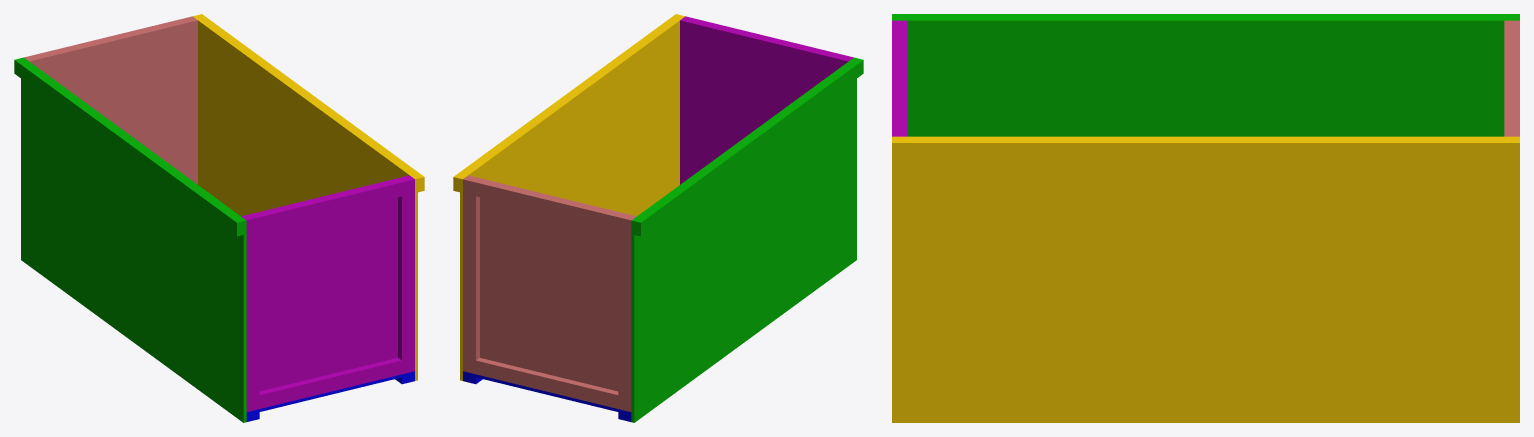
The model's file is result.glb.
The picture shows the model from 3 angles, left to right: view 1: azimuth 30°, elevation 25°; view 2: azimuth 150°, elevation 25°; view 3: azimuth 270°, elevation 25°; orthographic projection. The views are drawn at different scales.
Parts seen in each view (by area): view 1: ffd8f1ba-95f9-40e2-863b-4f8d39695126__Box_6, 1dc6f06f-2003-4e93-b297-3b47d28b7b78__Box_3, a1594c29-c6b6-4cc2-9e10-d6711a45d258__undefined, 184c246a-0ea2-43fc-9df2-b5346e2c0d37__undefined, 8add05cb-baac-4a33-83aa-6e7272d1a091__Box_7, 3d3d16c5-c152-4096-b800-93ba66e6ace6__undefined, c242dd87-e5cf-4665-981c-78031151446c__Box_4, b4f89f15-6231-436d-9cdd-82f44429a34a__undefined, 2ccd1f7b-b496-4abb-89f8-504bab3716ae__Box_5, 94bc22f0-6039-43f0-8656-74e47c284c6c__undefined, 8cef4bb0-bbf4-409b-bee3-64d4fb584d64__Box, 884591b5-4609-489f-bb55-23424e2c9bf1__undefined; view 2: ffd8f1ba-95f9-40e2-863b-4f8d39695126__Box_6, 184c246a-0ea2-43fc-9df2-b5346e2c0d37__undefined, a1594c29-c6b6-4cc2-9e10-d6711a45d258__undefined, 1dc6f06f-2003-4e93-b297-3b47d28b7b78__Box_3, 8add05cb-baac-4a33-83aa-6e7272d1a091__Box_7, 3a3f1b48-cc06-473e-b5e9-6c81eab77da1__undefined, 4b228db2-03e9-436d-a80f-9ad9bb5b9014__undefined, 884591b5-4609-489f-bb55-23424e2c9bf1__undefined, 962680cf-2a35-46e4-aedf-0724c928b743__undefined, 94bc22f0-6039-43f0-8656-74e47c284c6c__undefined, 8cef4bb0-bbf4-409b-bee3-64d4fb584d64__Box, b4f89f15-6231-436d-9cdd-82f44429a34a__undefined; view 3: a1594c29-c6b6-4cc2-9e10-d6711a45d258__undefined, ffd8f1ba-95f9-40e2-863b-4f8d39695126__Box_6, 94bc22f0-6039-43f0-8656-74e47c284c6c__undefined, 8add05cb-baac-4a33-83aa-6e7272d1a091__Box_7, b4f89f15-6231-436d-9cdd-82f44429a34a__undefined, 884591b5-4609-489f-bb55-23424e2c9bf1__undefined, 1dc6f06f-2003-4e93-b297-3b47d28b7b78__Box_3, 184c246a-0ea2-43fc-9df2-b5346e2c0d37__undefined.
Part boxes in pixels (x1,y1,x2,y2): ffd8f1ba-95f9-40e2-863b-4f8d39695126__Box_6: [21, 57, 246, 422]; 1dc6f06f-2003-4e93-b297-3b47d28b7b78__Box_3: [241, 175, 410, 391]; a1594c29-c6b6-4cc2-9e10-d6711a45d258__undefined: [193, 15, 417, 380]; 184c246a-0ea2-43fc-9df2-b5346e2c0d37__undefined: [28, 19, 197, 184]; 8add05cb-baac-4a33-83aa-6e7272d1a091__Box_7: [14, 58, 243, 236]; 3d3d16c5-c152-4096-b800-93ba66e6ace6__undefined: [398, 176, 414, 374]; c242dd87-e5cf-4665-981c-78031151446c__Box_4: [243, 214, 259, 411]; b4f89f15-6231-436d-9cdd-82f44429a34a__undefined: [256, 180, 401, 230]; 2ccd1f7b-b496-4abb-89f8-504bab3716ae__Box_5: [259, 358, 401, 408]; 94bc22f0-6039-43f0-8656-74e47c284c6c__undefined: [196, 14, 424, 192]; 8cef4bb0-bbf4-409b-bee3-64d4fb584d64__Box: [246, 371, 414, 414]; 884591b5-4609-489f-bb55-23424e2c9bf1__undefined: [37, 19, 182, 56]; ffd8f1ba-95f9-40e2-863b-4f8d39695126__Box_6: [631, 57, 856, 422]; 184c246a-0ea2-43fc-9df2-b5346e2c0d37__undefined: [467, 175, 636, 391]; a1594c29-c6b6-4cc2-9e10-d6711a45d258__undefined: [460, 15, 684, 380]; 1dc6f06f-2003-4e93-b297-3b47d28b7b78__Box_3: [680, 19, 849, 184]; 8add05cb-baac-4a33-83aa-6e7272d1a091__Box_7: [634, 58, 863, 236]; 3a3f1b48-cc06-473e-b5e9-6c81eab77da1__undefined: [463, 176, 479, 374]; 4b228db2-03e9-436d-a80f-9ad9bb5b9014__undefined: [618, 214, 634, 411]; 884591b5-4609-489f-bb55-23424e2c9bf1__undefined: [476, 180, 621, 230]; 962680cf-2a35-46e4-aedf-0724c928b743__undefined: [476, 358, 618, 408]; 94bc22f0-6039-43f0-8656-74e47c284c6c__undefined: [453, 14, 681, 192]; 8cef4bb0-bbf4-409b-bee3-64d4fb584d64__Box: [463, 371, 631, 414]; b4f89f15-6231-436d-9cdd-82f44429a34a__undefined: [695, 19, 840, 56]; a1594c29-c6b6-4cc2-9e10-d6711a45d258__undefined: [892, 136, 1519, 422]; ffd8f1ba-95f9-40e2-863b-4f8d39695126__Box_6: [892, 18, 1519, 136]; 94bc22f0-6039-43f0-8656-74e47c284c6c__undefined: [892, 138, 1519, 162]; 8add05cb-baac-4a33-83aa-6e7272d1a091__Box_7: [892, 14, 1519, 18]; b4f89f15-6231-436d-9cdd-82f44429a34a__undefined: [892, 29, 902, 127]; 884591b5-4609-489f-bb55-23424e2c9bf1__undefined: [1509, 29, 1519, 127]; 1dc6f06f-2003-4e93-b297-3b47d28b7b78__Box_3: [903, 20, 907, 136]; 184c246a-0ea2-43fc-9df2-b5346e2c0d37__undefined: [1504, 20, 1508, 136].
Bounding box in the file's own units: 512 × 526 × 1052.
